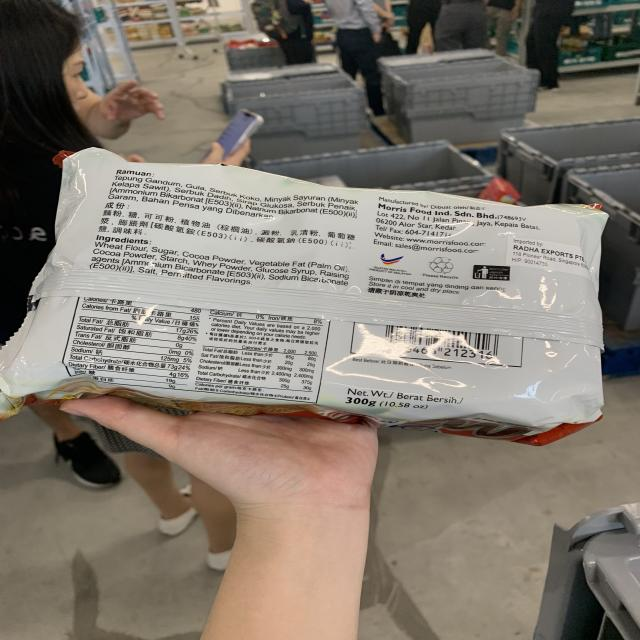object_name: (43, 157, 588, 427)
